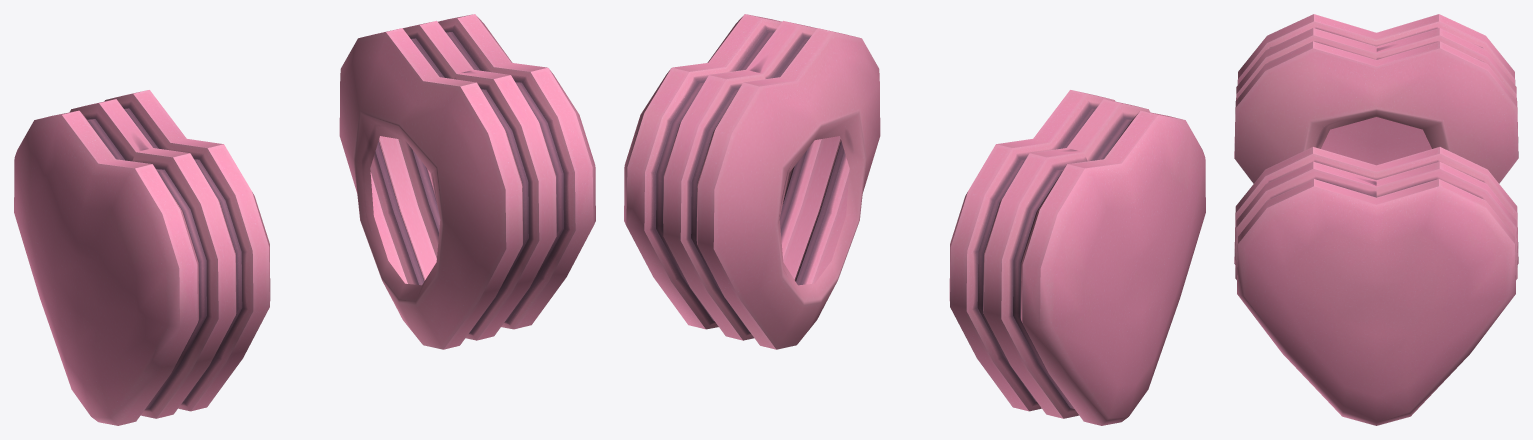
Rendered from BLACKPINK_01.glb.
3 renders of one model, left to right at view 1: azimuth 30°, elevation 25°; view 2: azimuth 150°, elevation 25°; view 3: azimuth 270°, elevation 25°, orthographic. The views are drawn at different scales.
Bounding box in the file's own units: 0.3058 × 0.1834 × 0.1932.
Materials: 1 (1 with a texture image).
